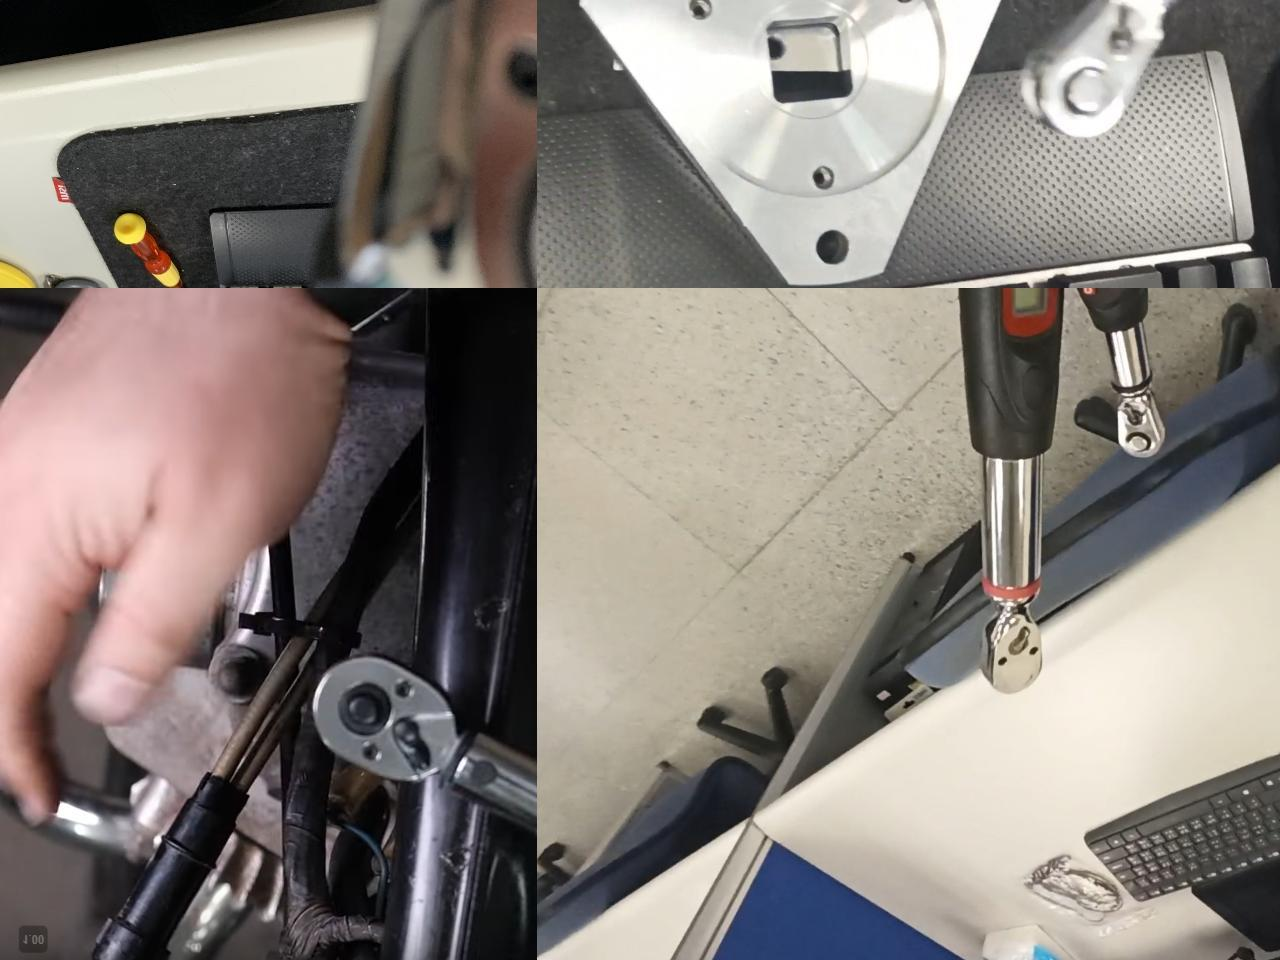Tool: (1019, 0, 1185, 140), (309, 652, 465, 779), (983, 601, 1047, 695), (1114, 386, 1168, 456)
hole: (809, 222, 870, 271), (803, 162, 846, 197), (756, 30, 793, 65), (678, 0, 714, 22)
